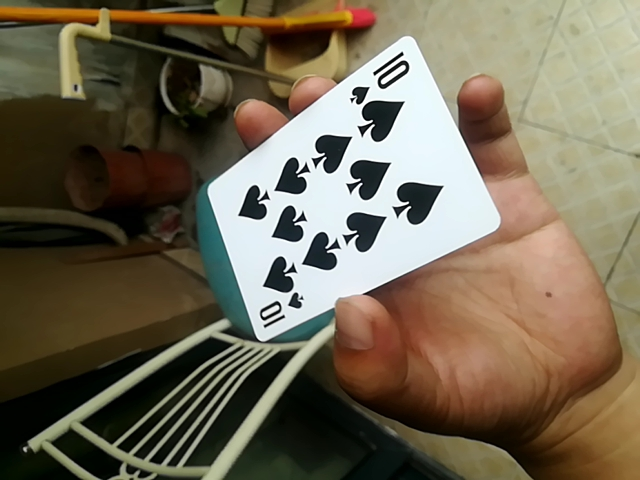ht 10: (197, 38, 488, 347)
